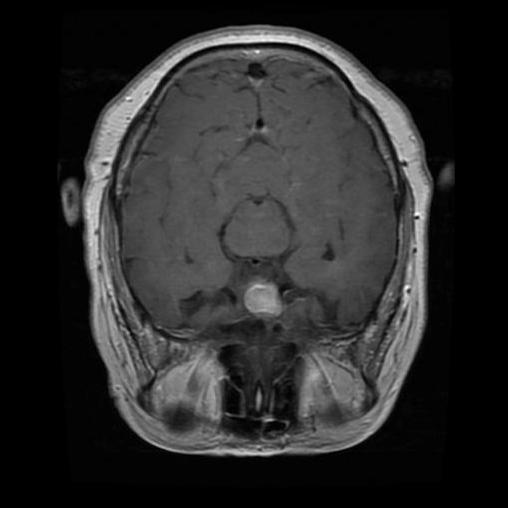Tumour-Pituitary: (235, 274, 293, 321)
